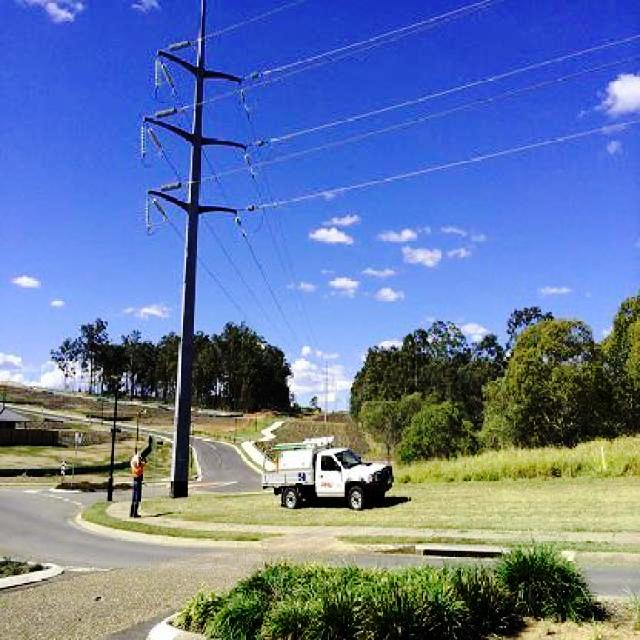poles: (126, 10, 272, 499)
wires: (263, 29, 633, 178), (247, 118, 639, 221), (211, 2, 304, 45)
